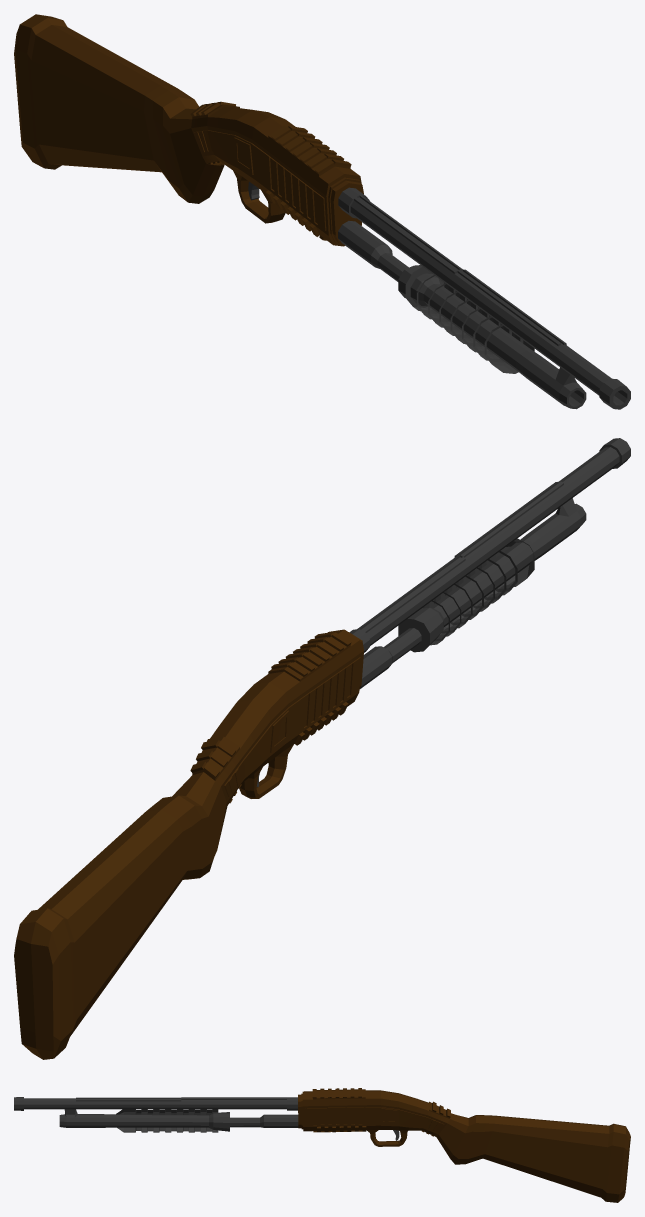
File: Shotgun.fbx
3 views of the same model, one above another, from view 1: azimuth 30°, elevation 25°; view 2: azimuth 150°, elevation 25°; view 3: azimuth 270°, elevation 25° (orthographic). The views are drawn at different scales.
Parts seen in each view (by area): view 1: Shotgun; view 2: Shotgun; view 3: Shotgun.
Part boxes in pixels (x1=…): Shotgun: x1=14, y1=14, x2=630, y2=409; Shotgun: x1=14, y1=438, x2=630, y2=1059; Shotgun: x1=14, y1=1088, x2=630, y2=1202.
Bounding box in the file's own units: 0.1721 × 0.8182 × 4.04.
